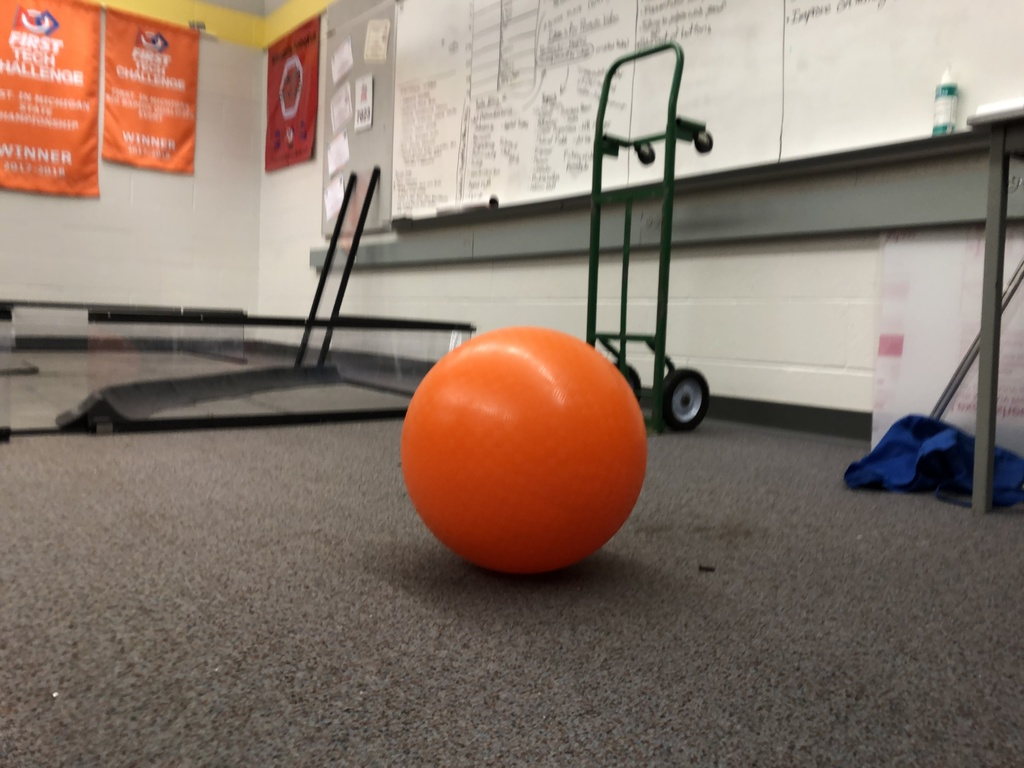cargo: (396, 318, 653, 590)
